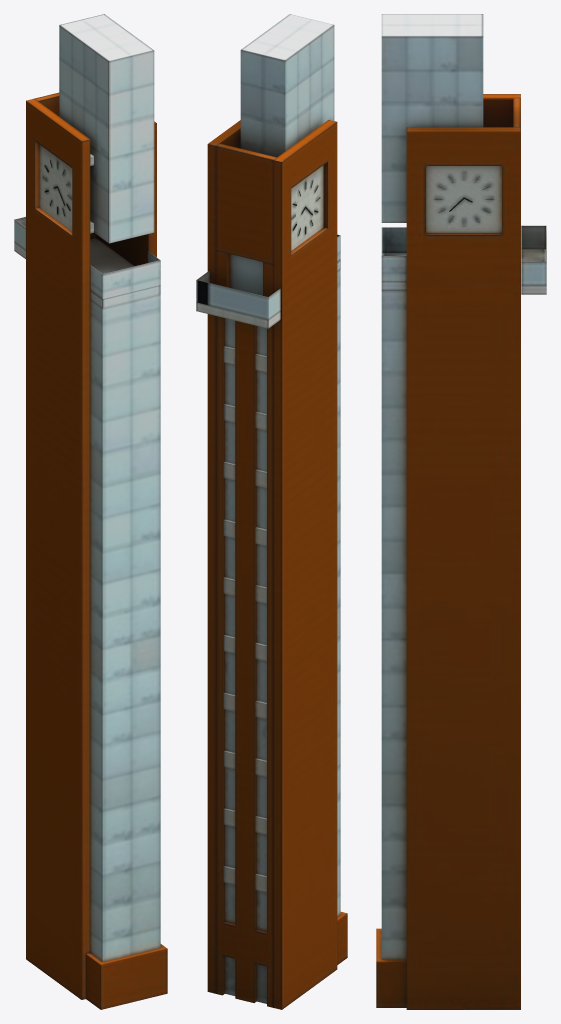
Rendered from clockTexture.glb.
The picture shows the model from 3 angles, left to right: view 1: azimuth 30°, elevation 25°; view 2: azimuth 150°, elevation 25°; view 3: azimuth 270°, elevation 25°; orthographic projection. The views are drawn at different scales.
Visible parts, largest first — view 1: 钟表; view 2: 钟表; view 3: 钟表.
Part boxes in pixels (x1=…): 钟表: x1=14, y1=14, x2=167, y2=1009; 钟表: x1=196, y1=14, x2=347, y2=1009; 钟表: x1=376, y1=14, x2=546, y2=1009.
Size of the model in its own units: 3.5 by 41.95 by 6.71.
1 material, 1 textured.
